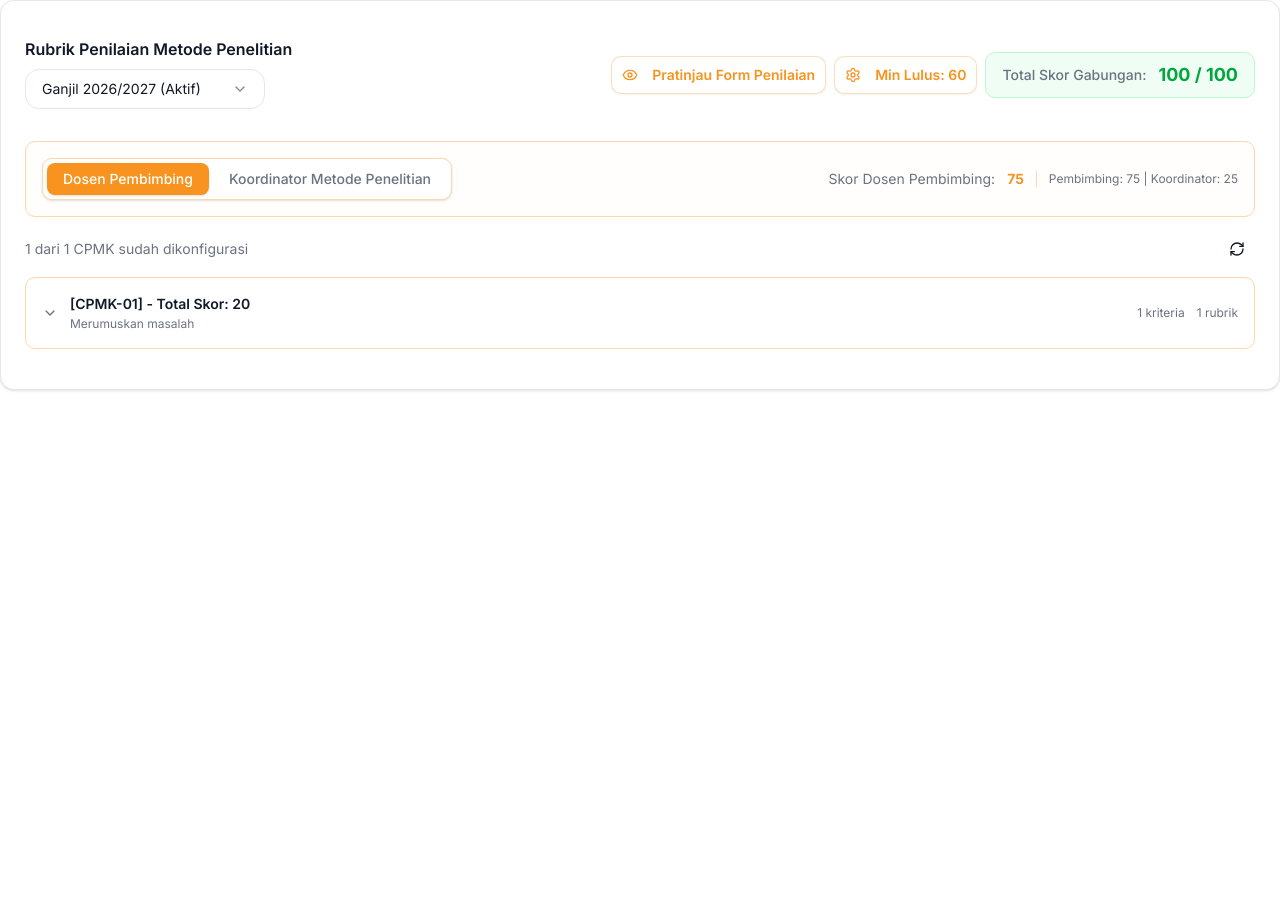
Scenario: Rubrik panel › the preview is the score form itself in preview mode (typing works, nothing is saved)
The image size is (1280, 900).
Click the button "Pratinjau Form Penilaian" at x=719, y=75, box [611, 56, 826, 94]
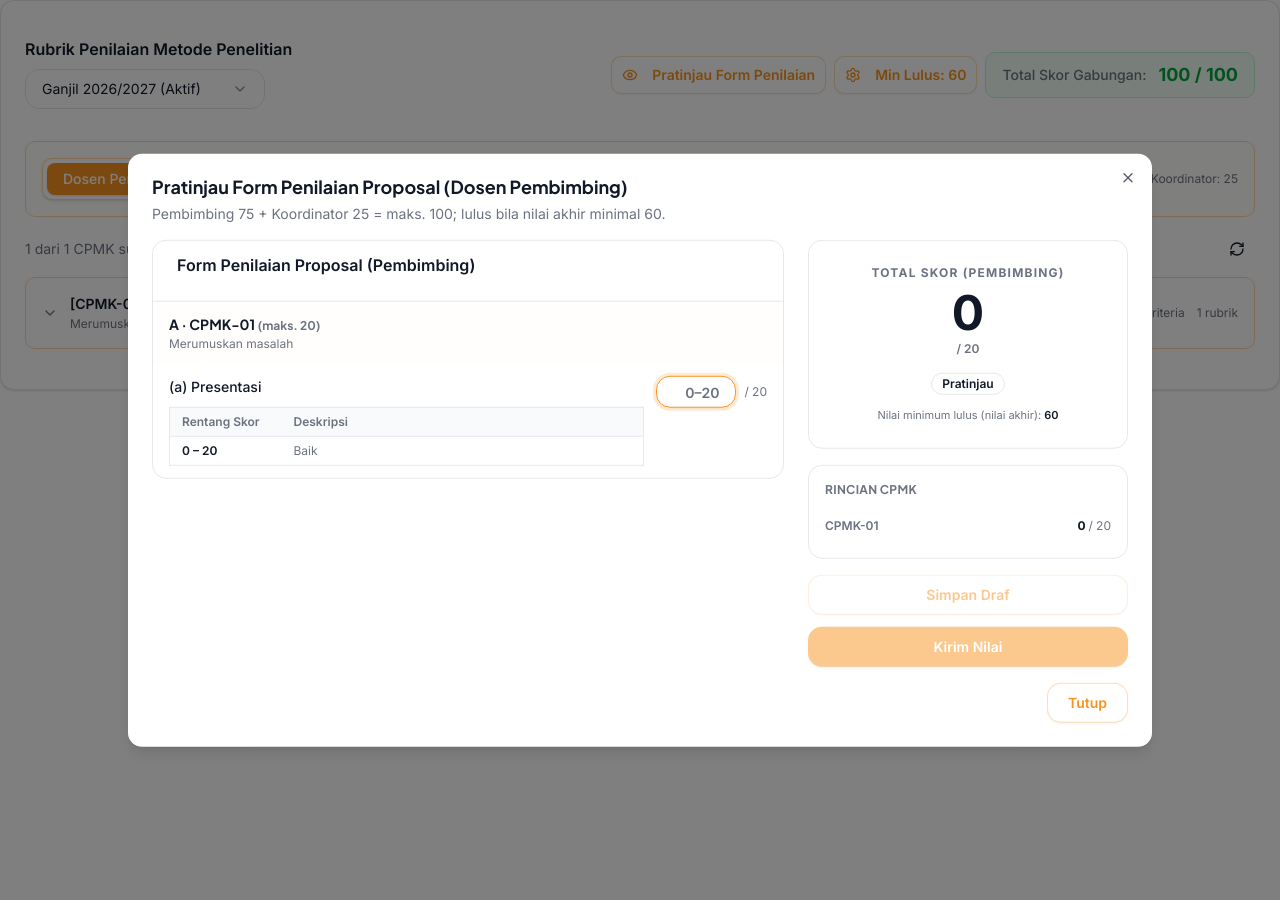
Check: the text "Form Penilaian Proposal (Pembimbing)" is shown, box [177, 253, 475, 277]
Check: the table named "Rubrik Presentasi" shows "0 – 20", box [169, 406, 644, 466]
Type "15" into the field labelled "(a) Presentasi" at x=696, y=392, box [656, 376, 736, 408]
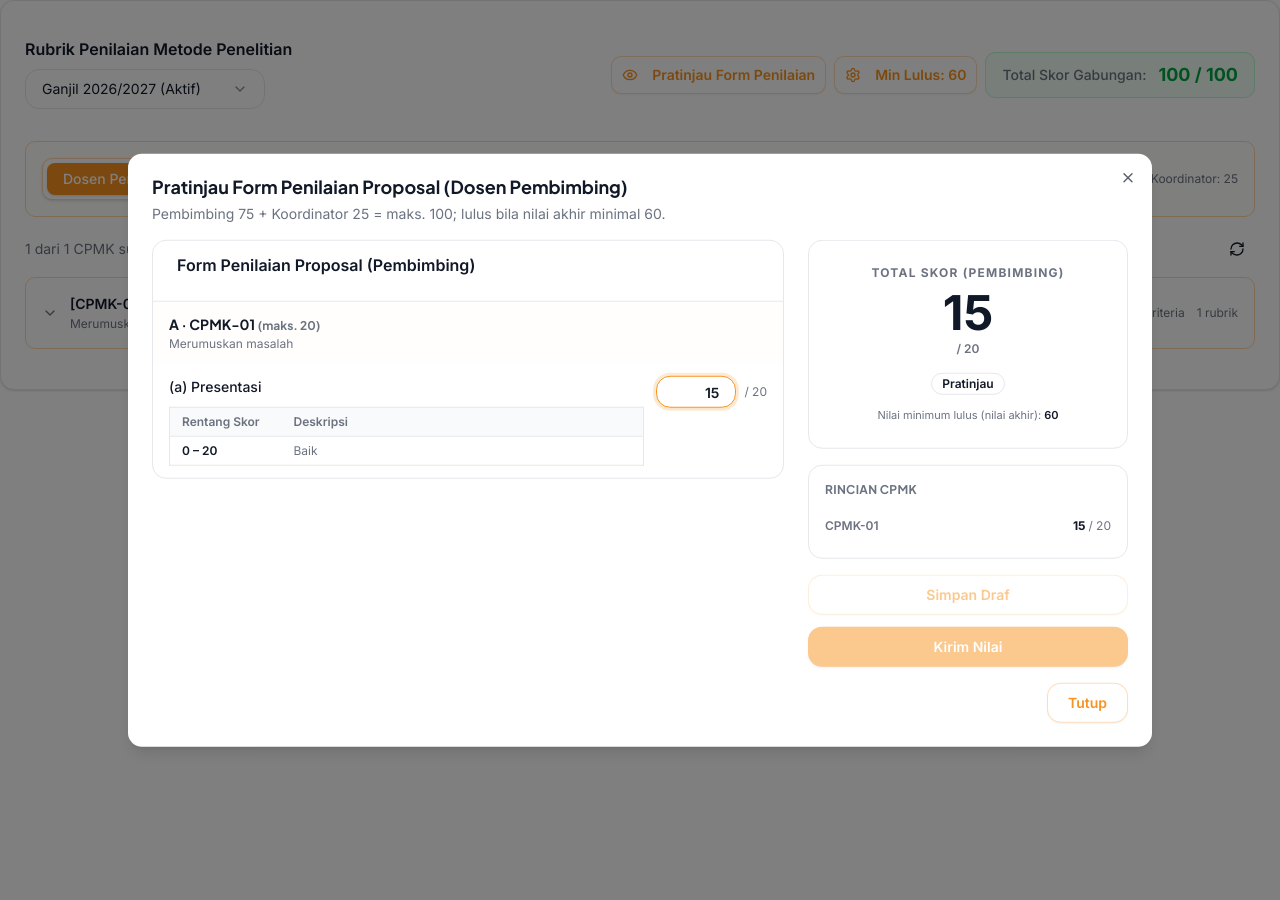
Check: the button "Simpan Draf" is disabled, box [808, 574, 1128, 614]
Check: the button "Kirim Nilai" is disabled, box [808, 626, 1128, 666]
Check: the text named "Total skor" reads "15", box [943, 283, 993, 342]
